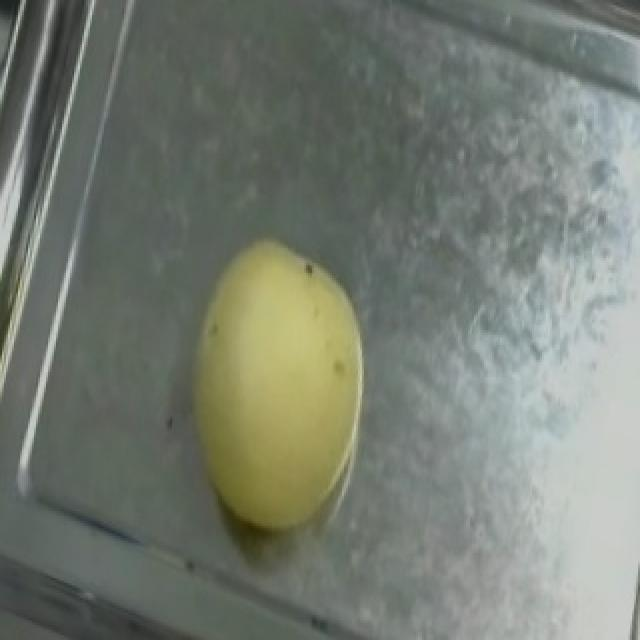Fruit: (142, 211, 408, 563)
